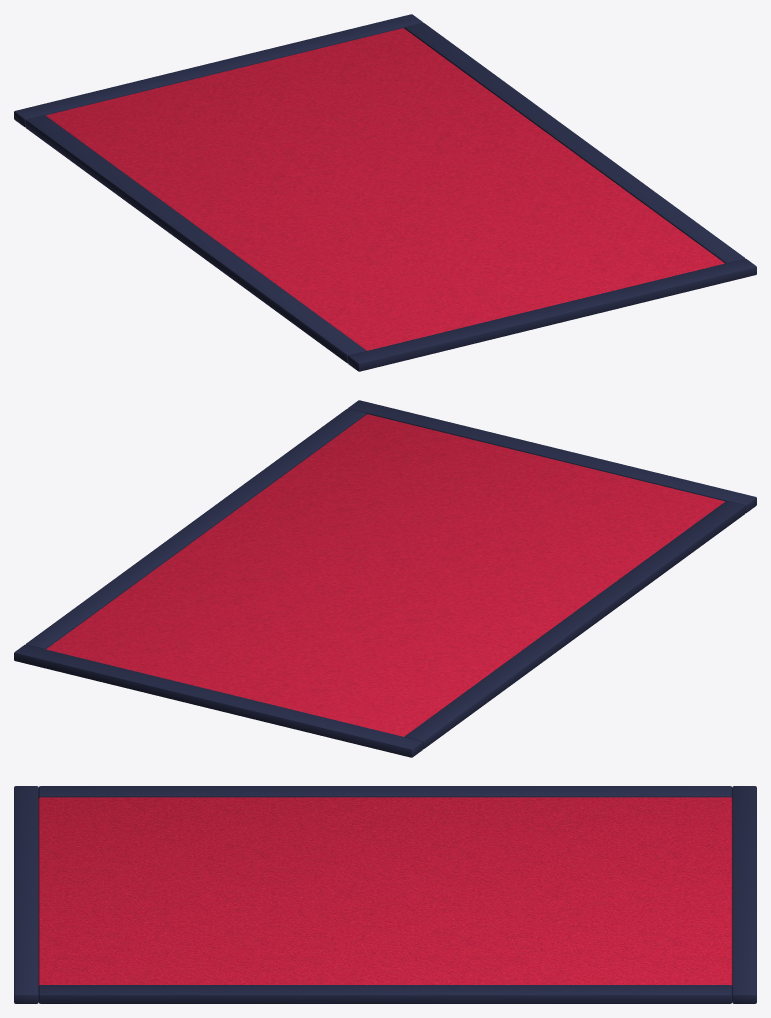
File: recy1UmhRR6BYWprA.glb
3 views of the same model, one above another, from view 1: azimuth 30°, elevation 25°; view 2: azimuth 150°, elevation 25°; view 3: azimuth 270°, elevation 25° (orthographic). The views are drawn at different scales.
Visible parts, largest first — view 1: Tapis_Porte_Corps; view 2: Tapis_Porte_Corps; view 3: Tapis_Porte_Corps.
Boxes of the visible parts, bbox=[...] form: Tapis_Porte_Corps: bbox=[14, 14, 756, 371]; Tapis_Porte_Corps: bbox=[14, 400, 756, 757]; Tapis_Porte_Corps: bbox=[14, 786, 756, 1003].
Bounding box in the file's own units: 0.6 × 0.013 × 0.9.
2 materials, 1 textured.
